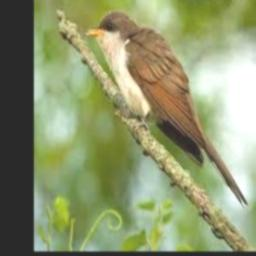Cuckoo: (87, 10, 249, 208)
